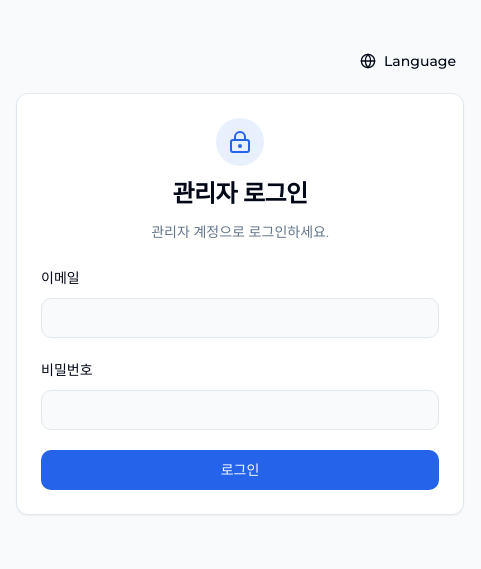
Test: Admin login form › Given an unexpected action failure When submitting Then it shows the generic translated error
The image size is (481, 569).
Type "admin@example.com" into the field labelled "이메일" at (240, 318), box [41,298,439,338]
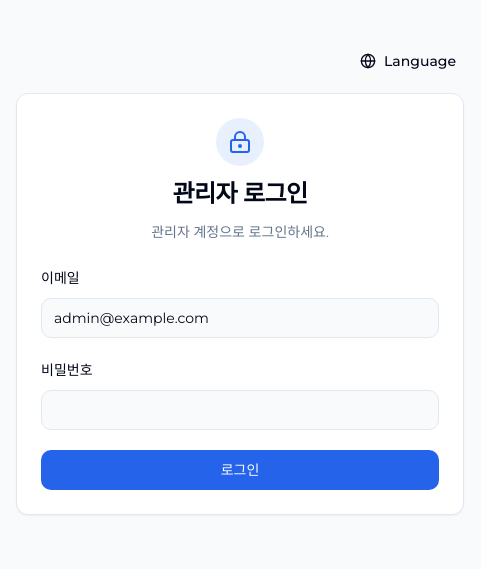
Type "secret-password" into the password field labelled "비밀번호" at (240, 410), box [41,390,439,430]
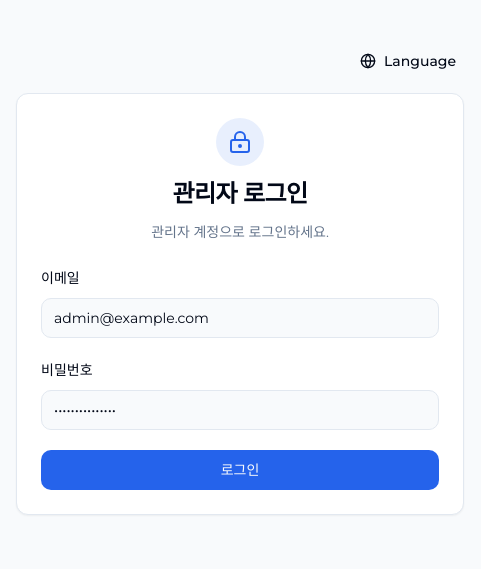
Click the button "로그인" at (240, 470), box [41,450,439,490]
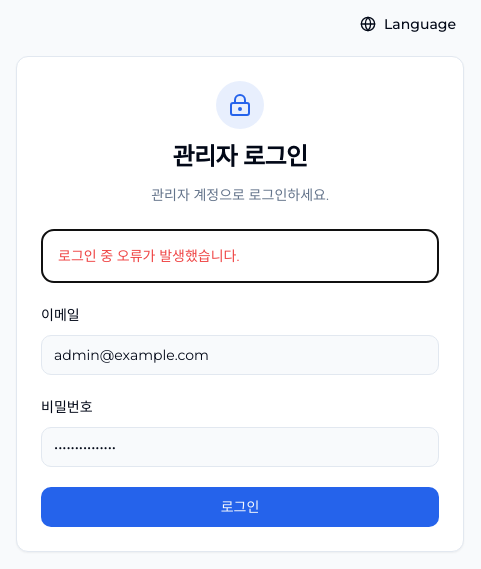
expect the message reads "로그인 중 오류가 발생했습니다.": met, box [58,247,239,265]
